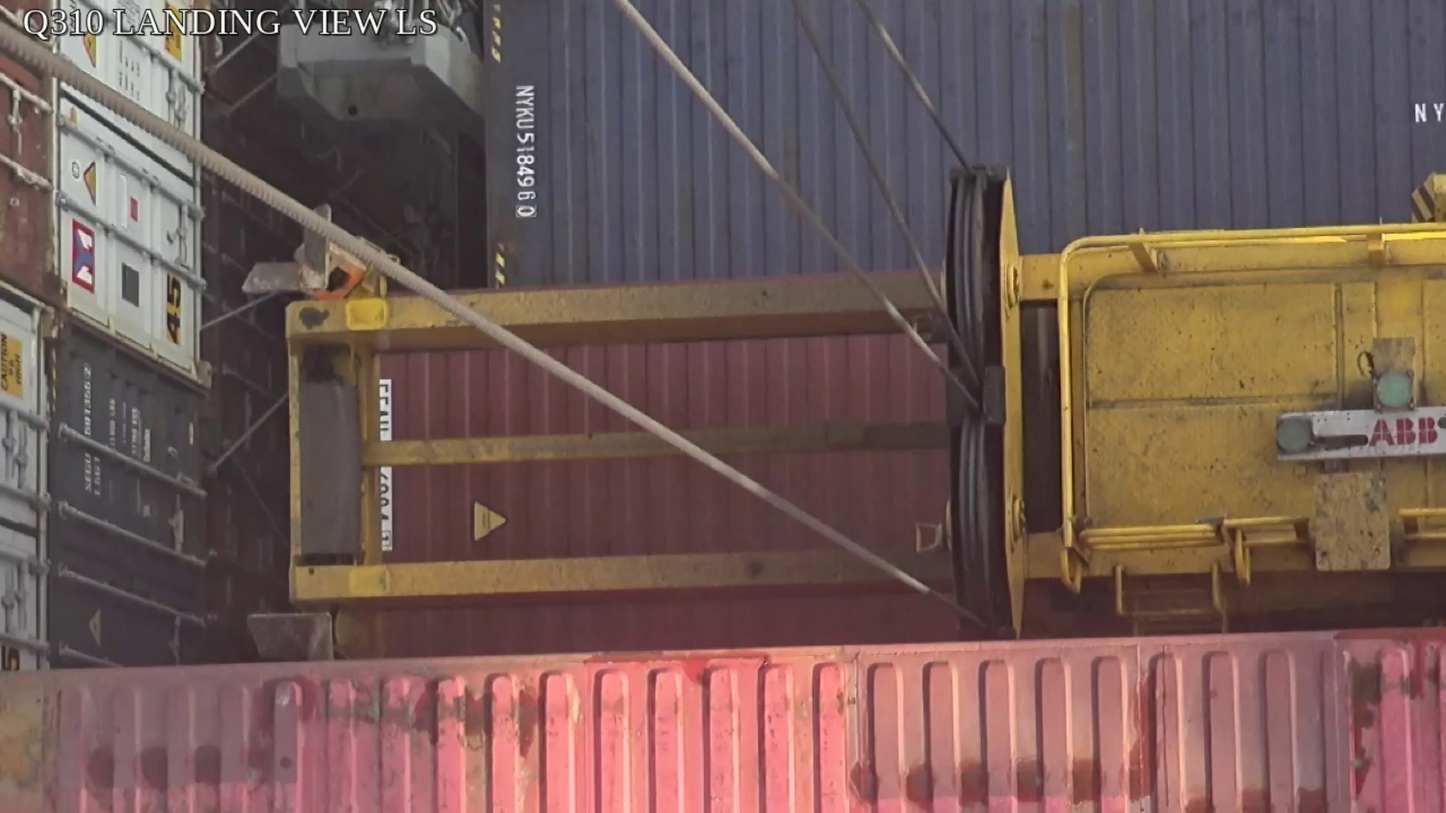aa: (944, 166, 1029, 638)
